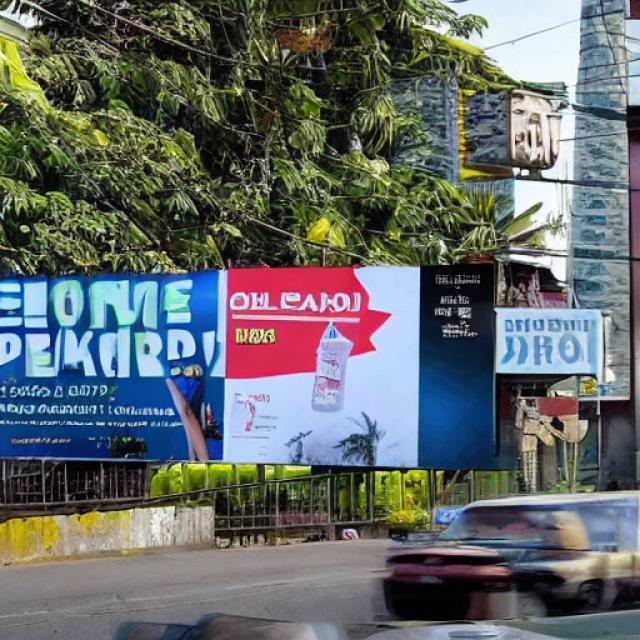Billboard: (0, 256, 501, 477)
